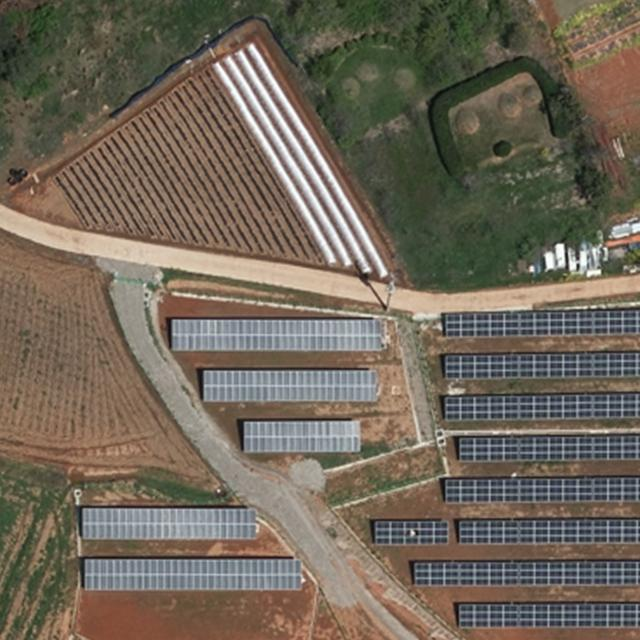solarpanel: (81, 555, 305, 594), (167, 314, 387, 353), (198, 366, 380, 406), (410, 558, 640, 586), (76, 505, 257, 539), (442, 473, 640, 504), (458, 600, 640, 632), (440, 310, 640, 338), (442, 353, 640, 381), (442, 391, 640, 418), (454, 519, 640, 547), (457, 434, 640, 462), (237, 416, 360, 455), (370, 516, 449, 545)
